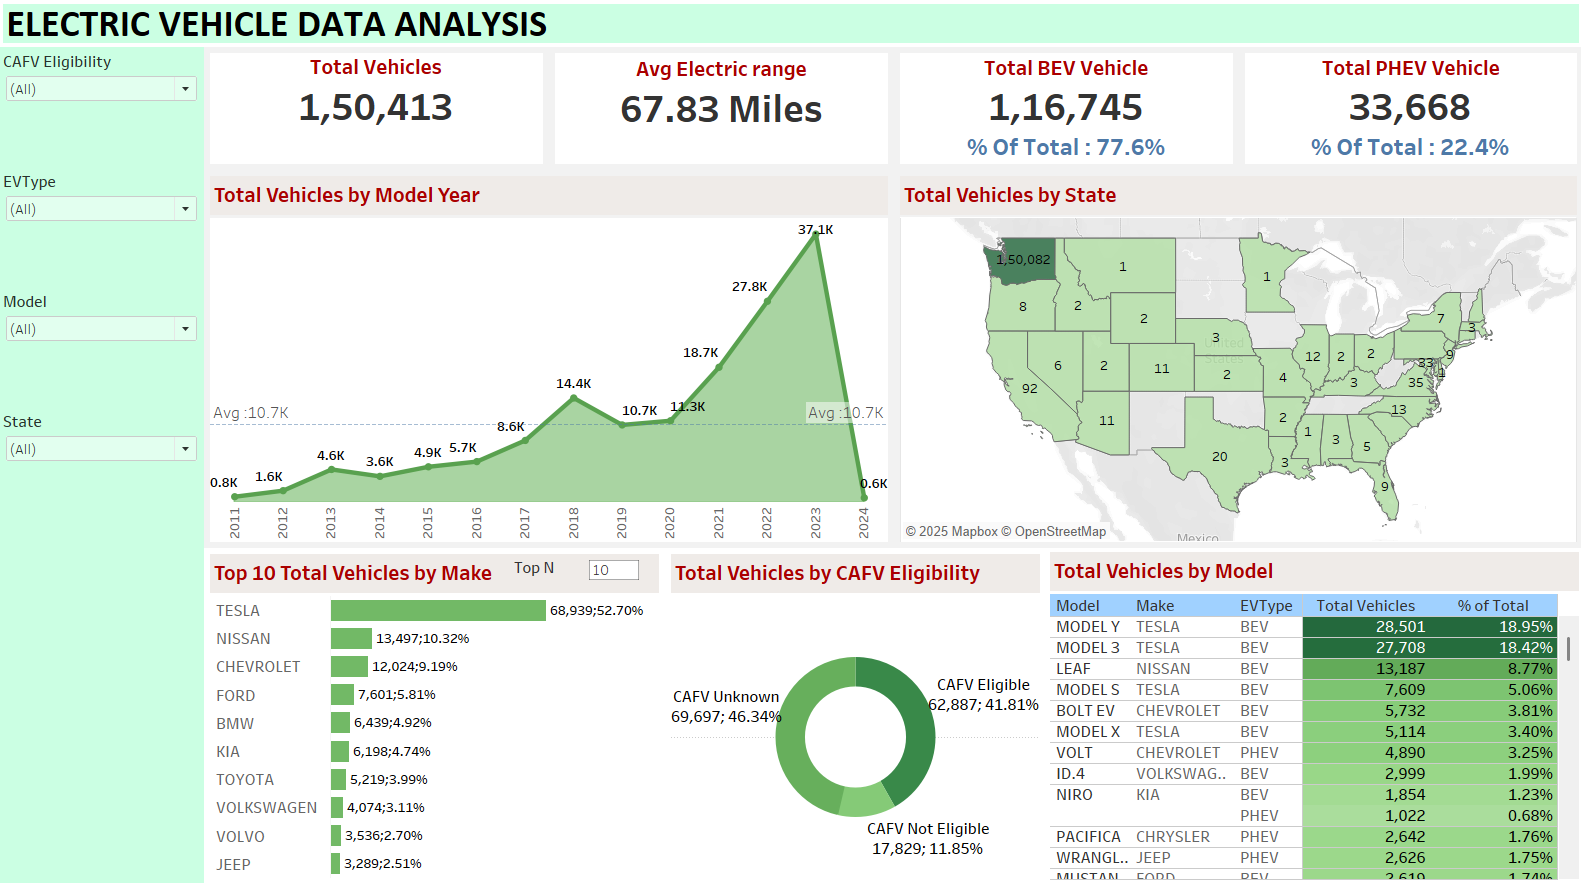

This screenshot's page, from the dashboard's own definition file:
{"tool":"tableau","page":{"name":"Dashboard 1","canvas":[1600,900],"ordinal":0},"visuals":[{"type":"title","box":[8,8,1584,47]},{"type":"filter","title":"Total Vehicles by Model Year ","param":"[federated.07d2l241o720je19oe27u1fyvswb].[none:Clean Alternative Fuel Vehicle (C","box":[8,55,205,120]},{"type":"worksheet","title":"Total Vehicles","mark":"Automatic","box":[213,55,345,123]},{"type":"worksheet","title":"Avg Electric Range","mark":"Automatic","box":[558,55,345,123]},{"type":"worksheet","title":"Total BEV Vehicles","mark":"Automatic","box":[903,55,345,123]},{"type":"worksheet","title":"Total PHEV Vehicles","mark":"Automatic","box":[1248,55,344,123]},{"type":"filter","title":"Total Vehicles by Model Year ","param":"[federated.07d2l241o720je19oe27u1fyvswb].[none:Electric Vehicle Type:nk]","box":[8,175,205,120]},{"type":"worksheet","title":"Total Vehicles by Model Year ","mark":"Area","rows":["Calculation_97390380353318912","Calculation_97390380353318912"],"cols":["Model Year"],"box":[213,178,690,378]},{"type":"worksheet","title":"Total Vehicles by State","mark":"Multipolygon","box":[903,178,689,378]},{"type":"filter","title":"Total Vehicles by Model Year ","param":"[federated.07d2l241o720je19oe27u1fyvswb].[none:Model:nk]","box":[8,295,205,120]},{"type":"filter","title":"Total Vehicles by Model Year ","param":"[federated.07d2l241o720je19oe27u1fyvswb].[none:State:nk]","box":[8,415,205,120]},{"type":"blank","box":[8,535,205,119]},{"type":"worksheet","title":"Top 10 Total Vehicles by Make","mark":"Automatic","rows":["Make"],"cols":["Calculation_97390380353318912"],"box":[213,556,461,336]},{"type":"worksheet","title":"Total Vehicles by CAFV Eligibility","mark":"Pie","rows":["Calculation_996139981036855297","Calculation_996139981036855297"],"box":[674,556,381,336]},{"type":"worksheet","title":"Total Vehicles by Model","mark":"Square","rows":["Model","Make","Electric Vehicle Type"],"box":[1055,556,537,336]},{"type":"parameter","param":"[Parameters].[Parameter 1]","box":[523,565,128,33]},{"type":"blank","box":[8,654,205,119]},{"type":"blank","box":[8,773,205,119]}]}

Visuals, with their boxes in screenshot pixels (x1, y1, x2, y2), scaled from the page's 1600x900 canvas onto the 1581x883 screenshot:
title: region(8, 8, 1573, 54)
"Total Vehicles by Model Year " filter: region(8, 54, 210, 172)
"Total Vehicles" worksheet: region(210, 54, 551, 175)
"Avg Electric Range" worksheet: region(551, 54, 892, 175)
"Total BEV Vehicles" worksheet: region(892, 54, 1233, 175)
"Total PHEV Vehicles" worksheet: region(1233, 54, 1573, 175)
"Total Vehicles by Model Year " filter: region(8, 172, 210, 289)
"Total Vehicles by Model Year " worksheet (Area marks): region(210, 175, 892, 545)
"Total Vehicles by State" worksheet (Multipolygon marks): region(892, 175, 1573, 545)
"Total Vehicles by Model Year " filter: region(8, 289, 210, 407)
"Total Vehicles by Model Year " filter: region(8, 407, 210, 525)
blank: region(8, 525, 210, 642)
"Top 10 Total Vehicles by Make" worksheet: region(210, 545, 666, 875)
"Total Vehicles by CAFV Eligibility" worksheet (Pie marks): region(666, 545, 1042, 875)
"Total Vehicles by Model" worksheet (Square marks): region(1042, 545, 1573, 875)
parameter: region(517, 554, 643, 587)
blank: region(8, 642, 210, 758)
blank: region(8, 758, 210, 875)
